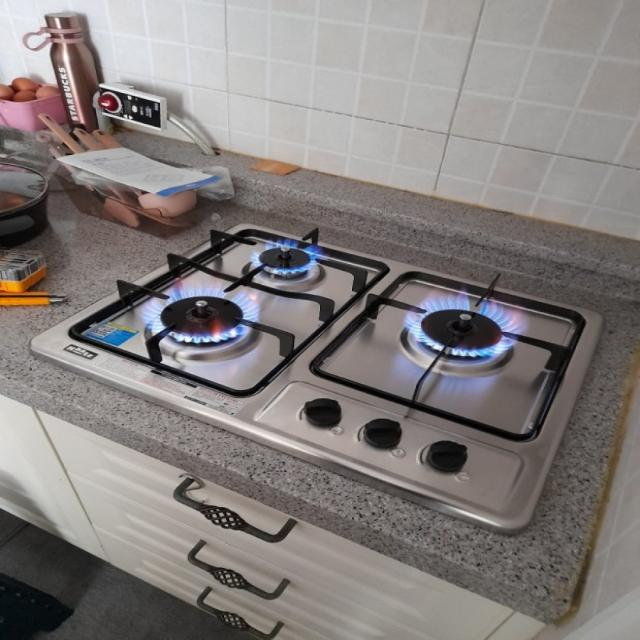knob_ON: (364, 255, 564, 408), (86, 252, 297, 370), (195, 203, 381, 303)
